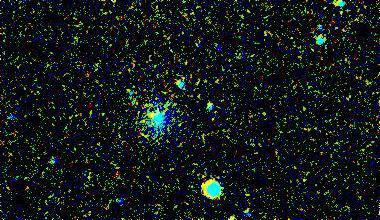star: (138, 102, 168, 132)
